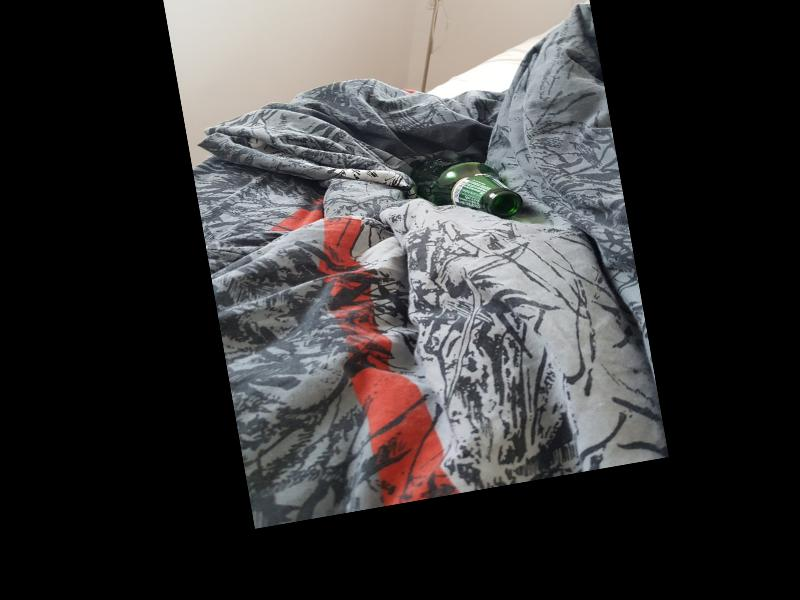Beer: (406, 144, 525, 233)
